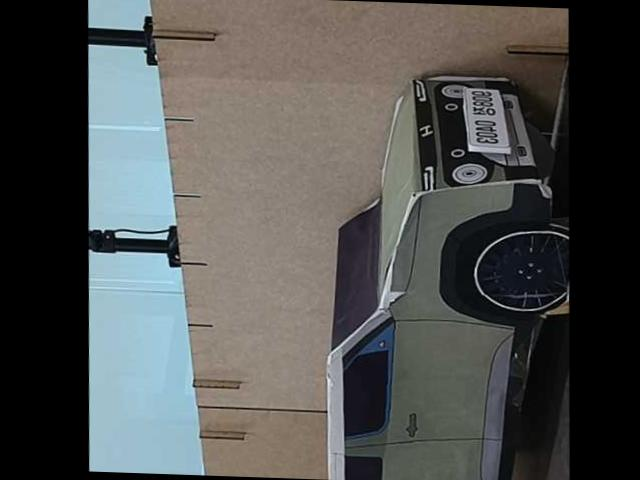car: (304, 65, 584, 480)
id: (458, 84, 514, 153)
